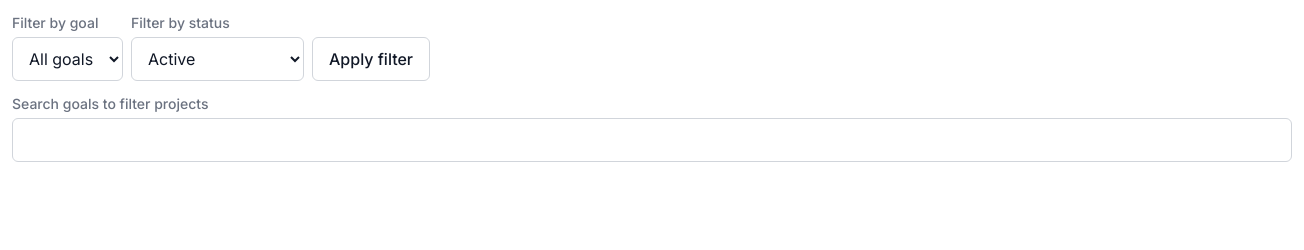
Test: ProjectFilterSelect › shows an empty-goals state when the focused picker has no options
Focus the dropdown labelled "Search goals to filter projects" at (652, 140), box x1=12 y1=118 x2=1292 y2=162
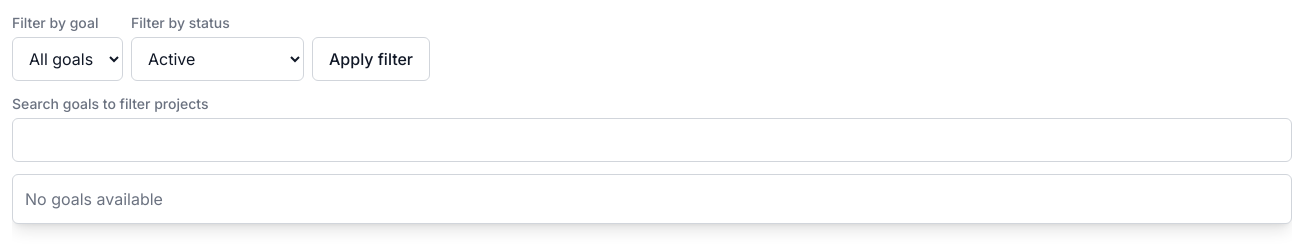
Check: the message reads "No goals available", box x1=25 y1=189 x2=163 y2=209
